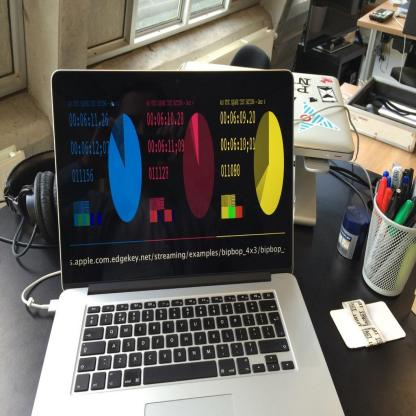board: (31, 67, 344, 416), (177, 60, 354, 162)
